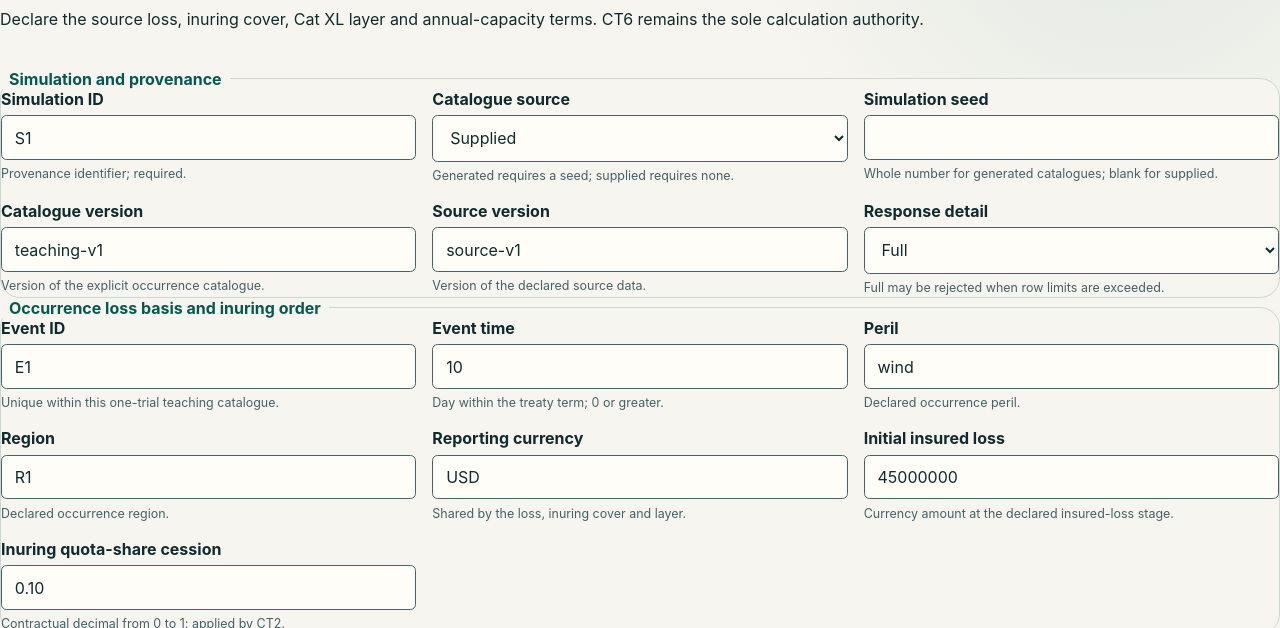
Explore Treaty workflow › blocks an incomplete request and maps the error to its field
Clear the field labelled "Event ID" at [209, 367], box [1,344,416,389]
(page scrolled)
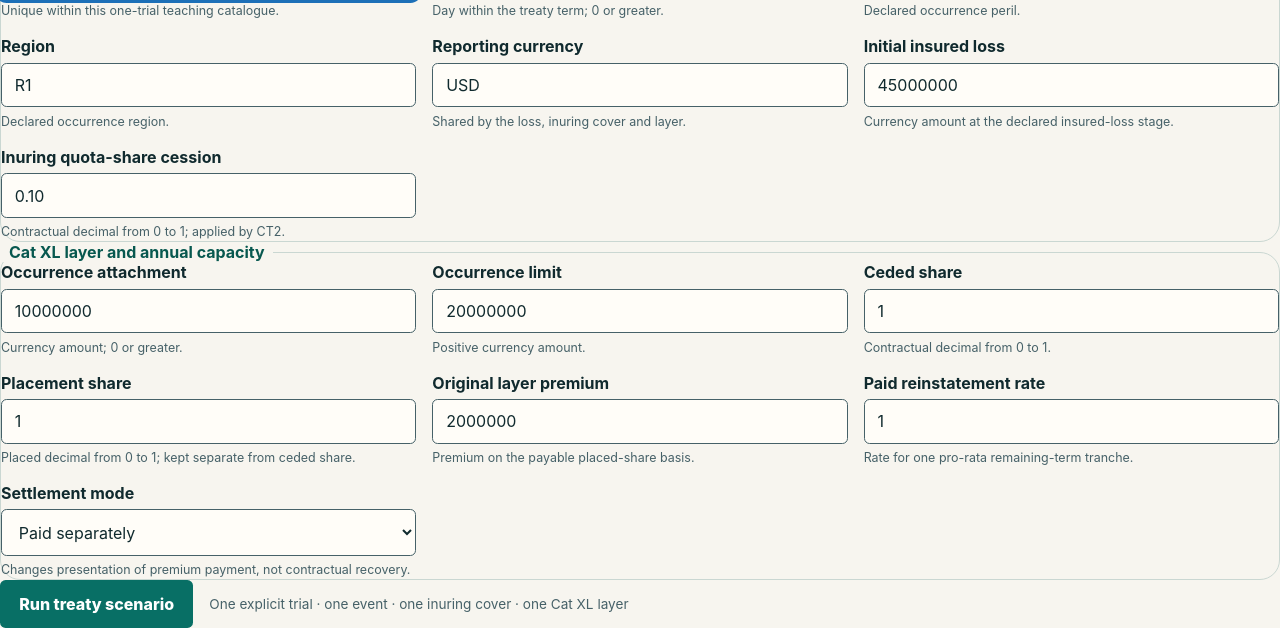
Click the button "Run treaty scenario".
click(97, 604)  # box [0,580,193,627]
(page scrolled)
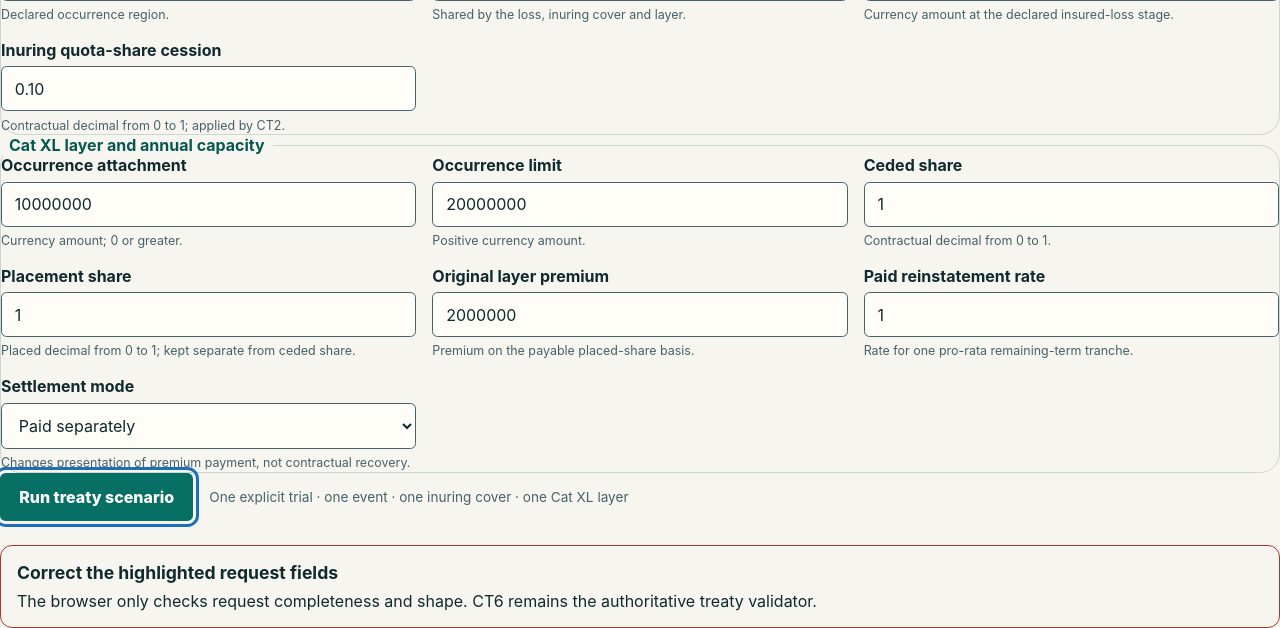
Now the heading "Correct the highlighted request fields" is shown, box [17,562,338,583]
